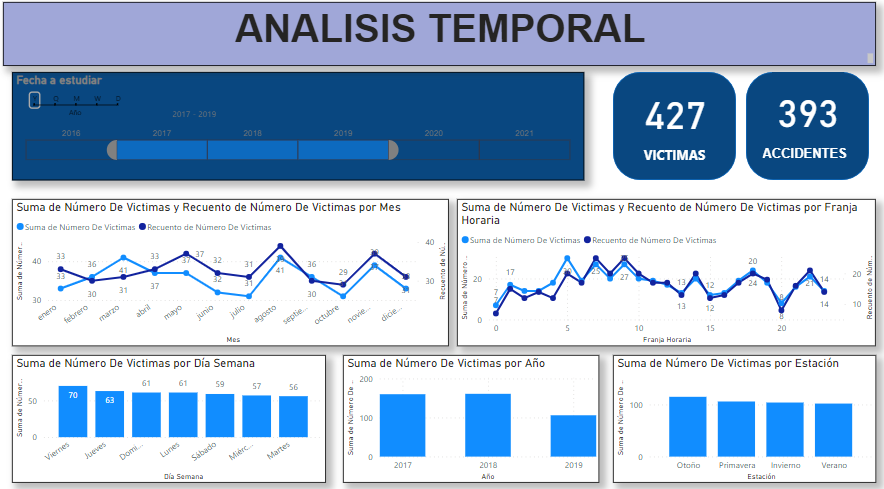

This screenshot's page, from the dashboard's own definition file:
{"tool":"powerbi","page":{"name":"Análisis Temporal ","canvas":[1280,720],"ordinal":2},"visuals":[{"type":"Timeline1447991079100","title":"Fecha a estudiar","fields":{"Time":["Calendario.Date"]},"box":[23,112.3,823.7,155.5],"z":0},{"type":"textbox","title":"ANALISIS TEMPORAL","box":[10,11,1257.1,92.2],"z":1000},{"type":"shape","box":[888.5,112.3,177.1,155.5],"z":2000},{"type":"shape","box":[1080,112.3,177.1,155.5],"z":3000},{"type":"textbox","box":[907.2,214.6,139.7,41.8],"z":4000},{"type":"textbox","box":[1098.7,214.6,139.7,41.8],"z":5000},{"type":"card","fields":{"Values":["Sum(hechos_main.Número De Victimas)"]},"box":[923,121,109.4,93.6],"z":6000},{"type":"card","fields":{"Values":["CountNonNull(hechos_main.Número De Victimas)"]},"box":[1117.4,112.3,103.7,105.1],"z":7000},{"type":"lineChart","fields":{"Category":["Calendario.Date.Variación.Jerarquía de fechas.Mes"],"Y":["Sum(hechos_main.Número De Victimas)"],"Y2":["CountNonNull(hechos_main.Número De Victimas)"]},"box":[23,295.2,629.3,211.7],"z":8000},{"type":"lineChart","fields":{"Y":["Sum(hechos_main.Número De Victimas)"],"Y2":["CountNonNull(hechos_main.Número De Victimas)"],"Category":["fecha_hora.Franja Horaria"]},"box":[663.8,295.2,603.4,211.7],"z":9000},{"type":"columnChart","fields":{"Category":["fecha_hora.Día Semana"],"Y":["Sum(hechos_main.Número De Victimas)"]},"box":[23,519.8,452.2,184.3],"z":10000},{"type":"columnChart","fields":{"Category":["Calendario.Date.Variación.Jerarquía de fechas.Año"],"Y":["Sum(hechos_main.Número De Victimas)"]},"box":[499.7,519.8,368.6,184.3],"z":11000},{"type":"columnChart","fields":{"Category":["estacion.Estación"],"Y":["Sum(hechos_main.Número De Victimas)"]},"box":[888.5,519.8,378.7,184.3],"z":12000}]}

Visuals, with their boxes in screenshot pixels (x1, y1, x2, y2), scaled from the page's 1280x720 canvas onto the 884x489 screenshot:
"Fecha a estudiar" Timeline1447991079100: (16, 76, 585, 182)
"ANALISIS TEMPORAL" textbox: (7, 7, 875, 70)
shape: (614, 76, 736, 182)
shape: (746, 76, 868, 182)
textbox: (627, 146, 723, 174)
textbox: (759, 146, 855, 174)
card - Sum(hechos_main.Número De Victimas): (637, 82, 713, 146)
card - CountNonNull(hechos_main.Número De Victimas): (772, 76, 843, 148)
lineChart - Calendario.Date.Variación.Jerarquía de fechas.Mes x Sum(hechos_main.Número De Victimas): (16, 200, 450, 344)
lineChart - Sum(hechos_main.Número De Victimas) x CountNonNull(hechos_main.Número De Victimas): (458, 200, 875, 344)
columnChart - fecha_hora.Día Semana x Sum(hechos_main.Número De Victimas): (16, 353, 328, 478)
columnChart - Calendario.Date.Variación.Jerarquía de fechas.Año x Sum(hechos_main.Número De Victimas): (345, 353, 600, 478)
columnChart - estacion.Estación x Sum(hechos_main.Número De Victimas): (614, 353, 875, 478)
